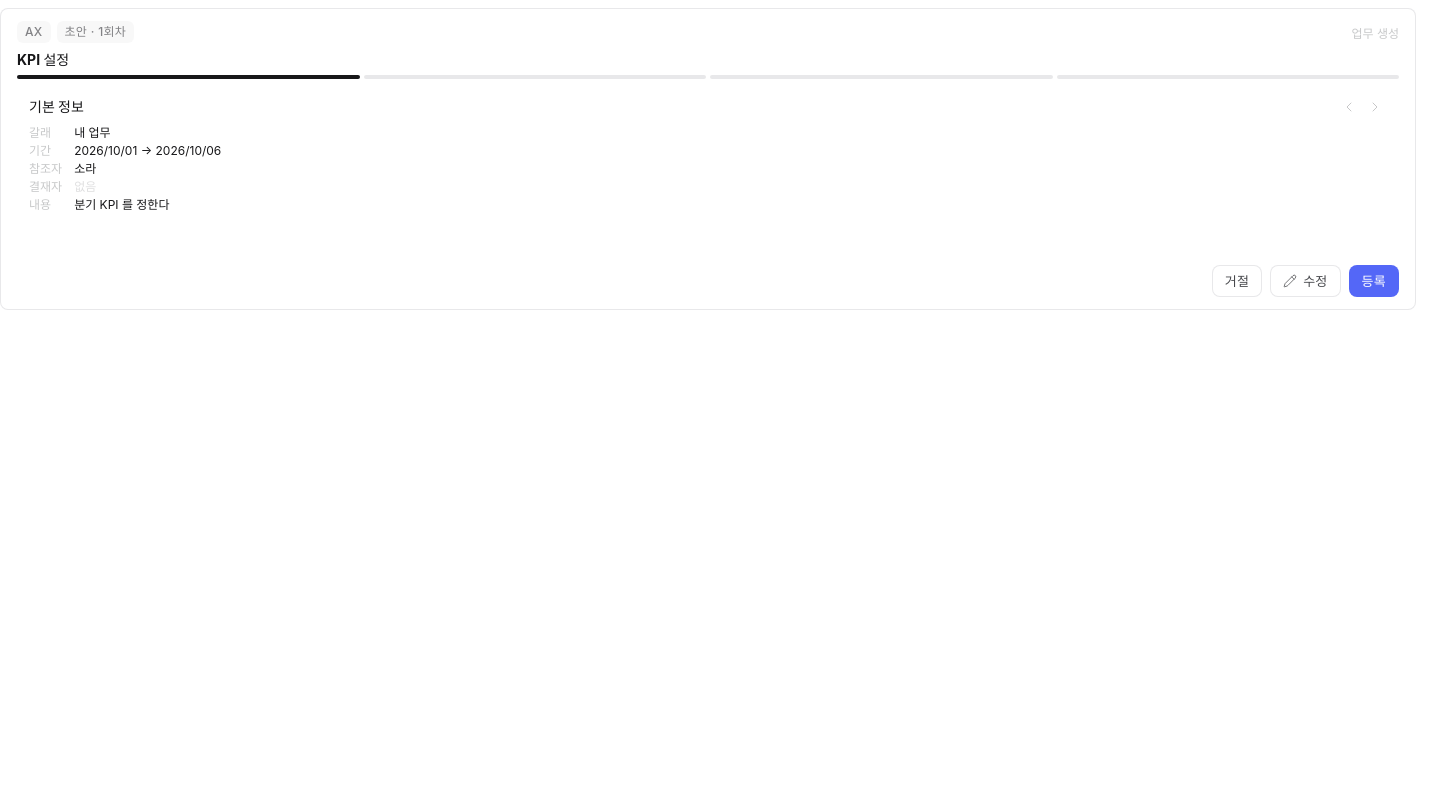
AX 초안 요약 카드 — [수정] = 「새 업무 추가」 창 › 초안 값으로 열리고 갈래가 고정되며, 창의 저장이 고친 값을 새 회차로 남긴다(save_draft + draft — 확정 아님)
The width and height of the screenshot is (1440, 810).
Click the button "수정". click: coordinates (1305, 281)
box: [1270,265,1341,297]
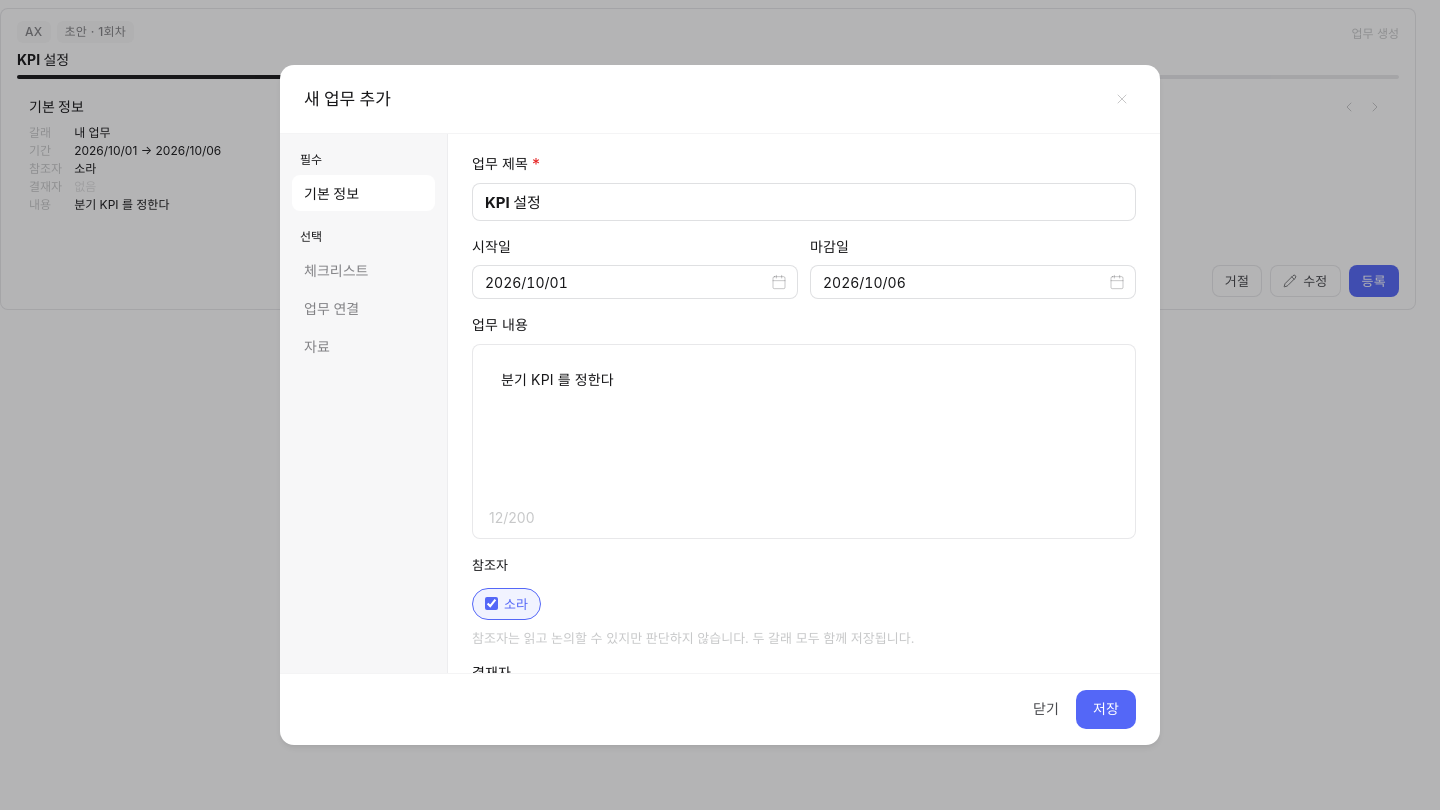
Now the field labelled "업무 제목" holds "KPI 설정"
Now the checkbox labelled "소라" is checked, box [485,597,498,610]
Replace the text in the field labelled "업무 제목" with "KPI 설정 (고침)". click: coordinates (804, 202)
box: [472,182,1136,220]
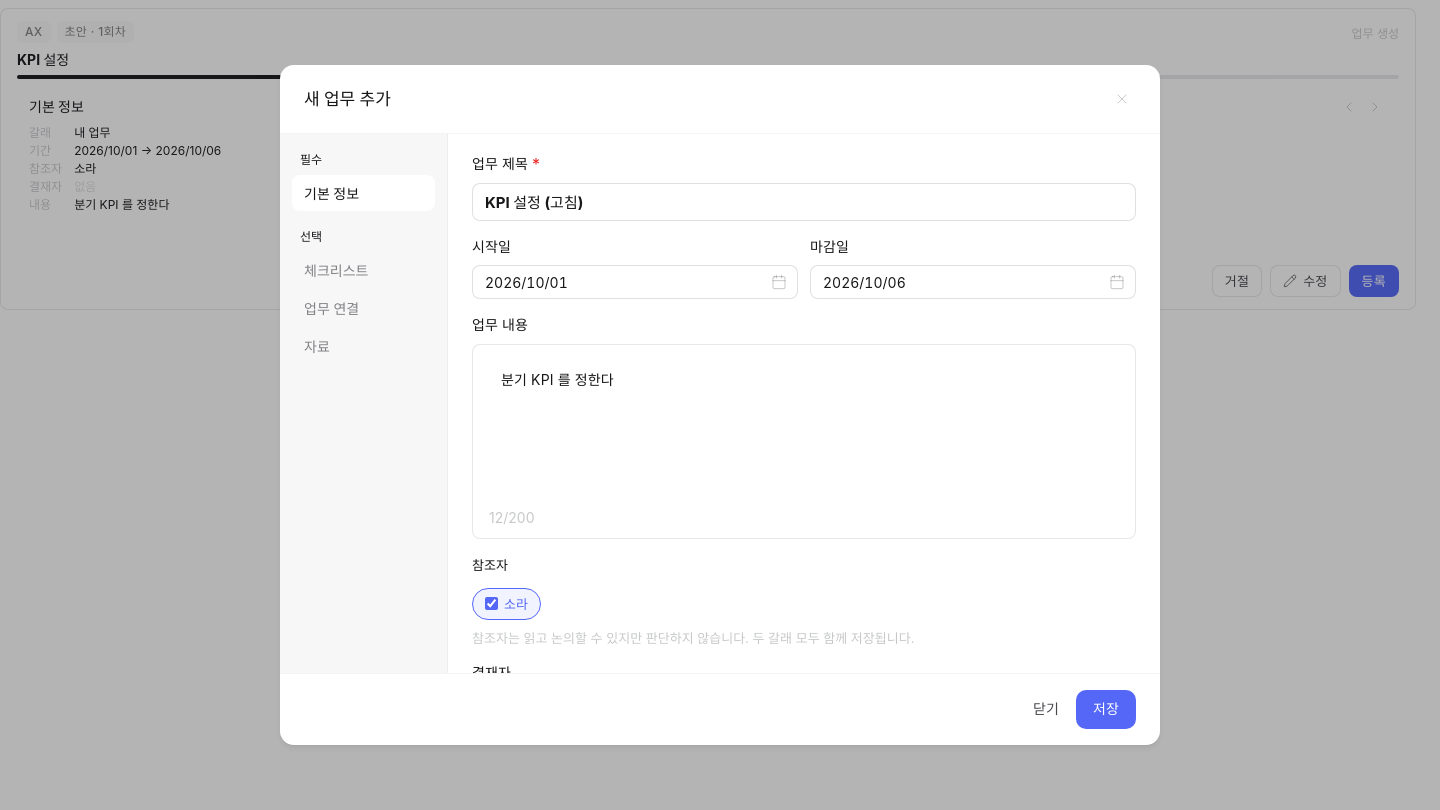
Click the button "저장". click: coordinates (1106, 710)
box: [1076,690,1136,729]
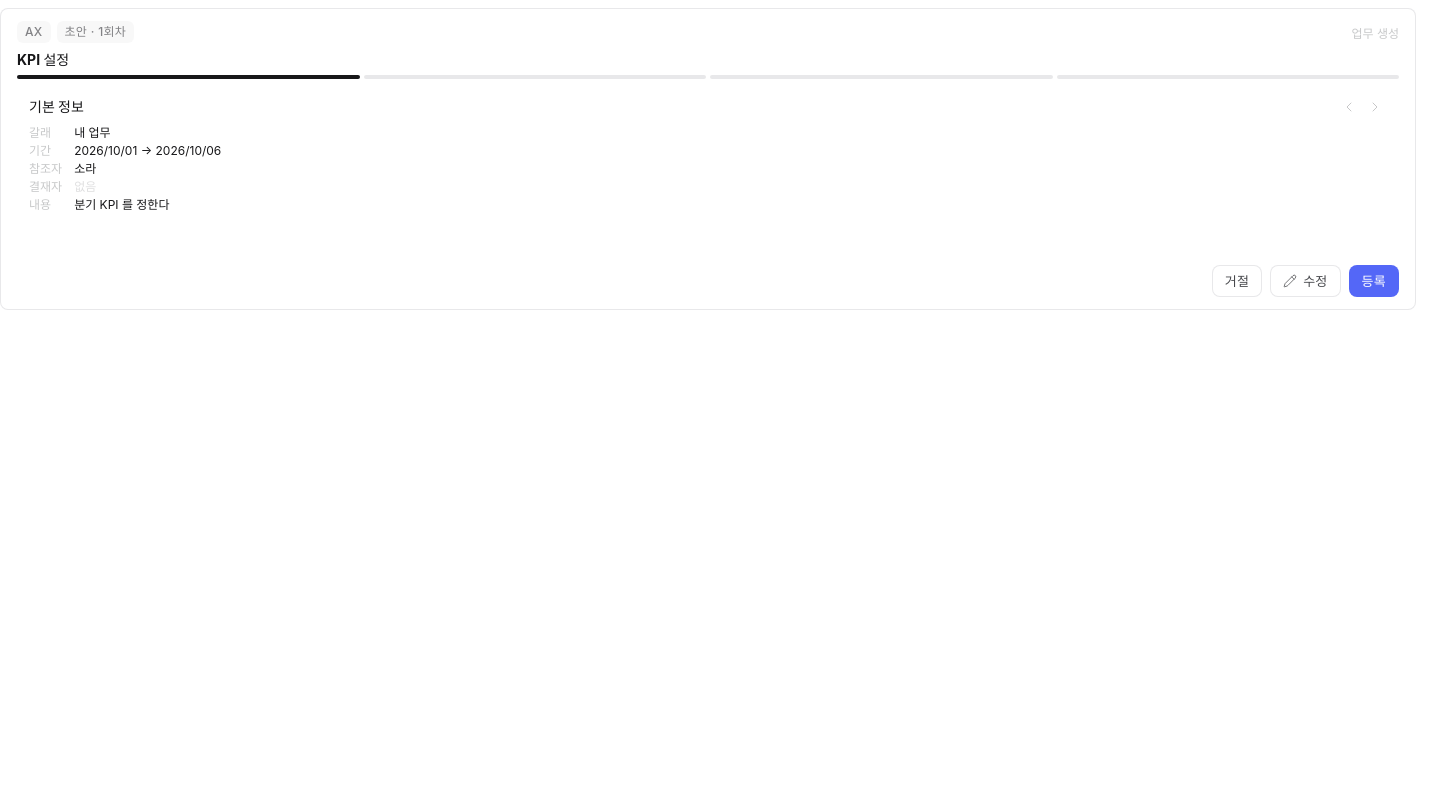
Now the heading "새 업무 추가" is gone
